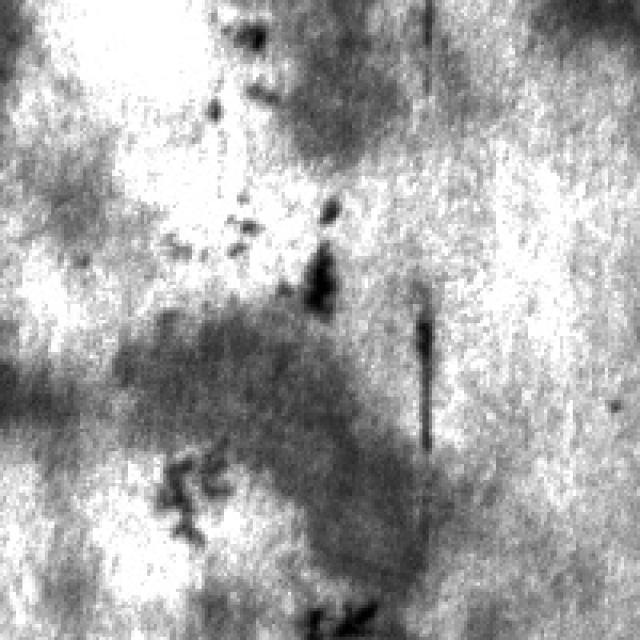inclusion: (266, 195, 348, 314), (403, 294, 435, 458), (291, 589, 384, 637)
patches: (106, 304, 435, 592), (282, 0, 400, 160), (0, 307, 86, 483), (512, 0, 637, 64)
